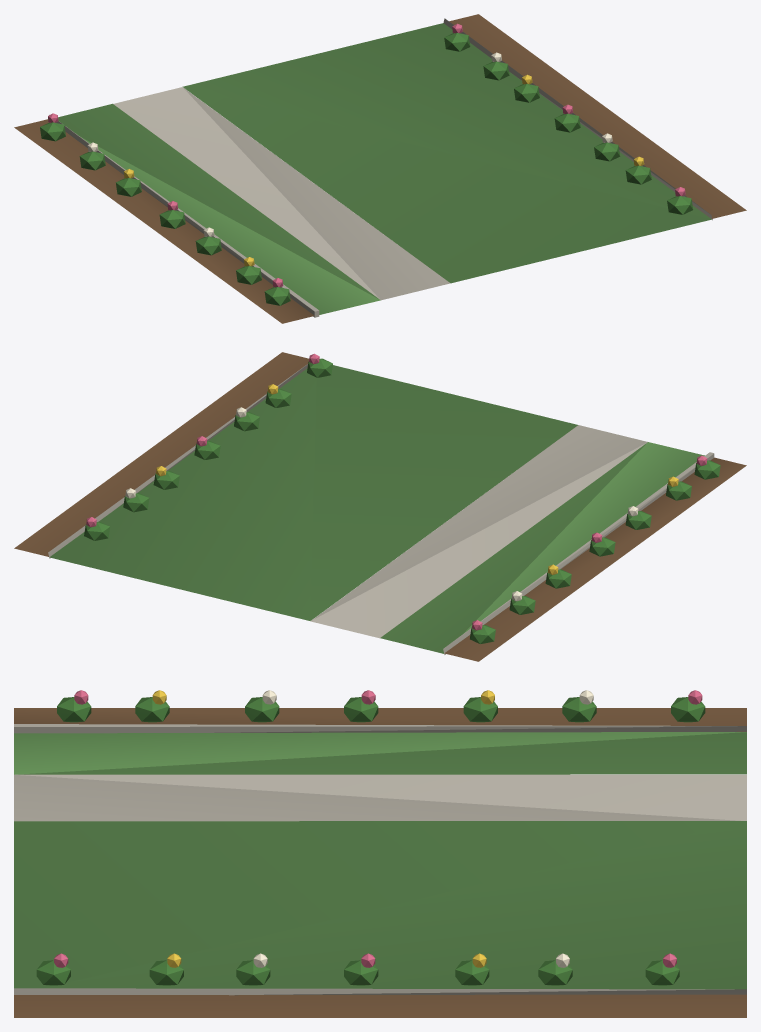
The model's file is ground_garden.glb.
3 views of the same model, one above another, from view 1: azimuth 30°, elevation 25°; view 2: azimuth 150°, elevation 25°; view 3: azimuth 270°, elevation 25° (orthographic). The views are drawn at different scales.
Parts seen in each view (by area): view 1: Ground; view 2: Ground; view 3: Ground.
Boxes of the visible parts, bbox=[...] form: Ground: bbox=[14, 14, 746, 323]; Ground: bbox=[14, 352, 746, 661]; Ground: bbox=[14, 690, 746, 1017].
Bounding box in the file's own units: 8 × 0.414 × 8.
1 material, 1 textured.
